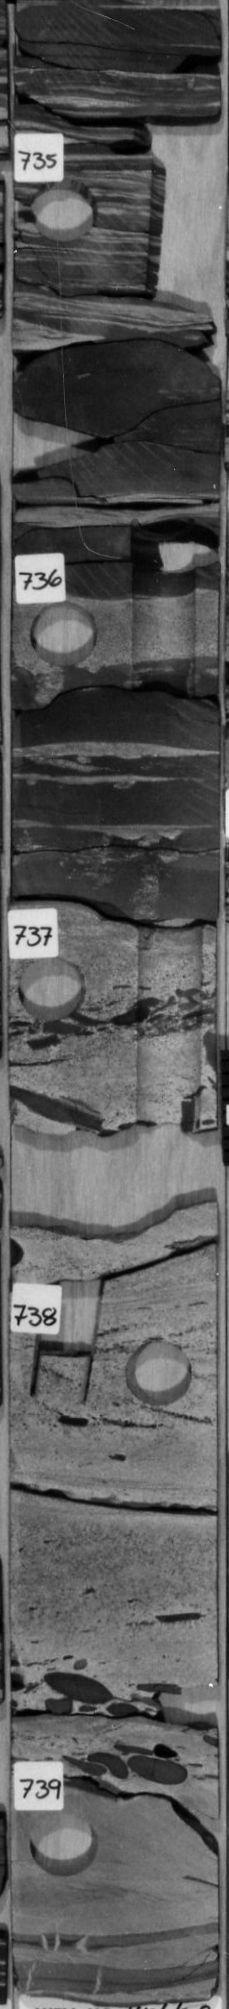hplug: (20, 1809, 105, 1880), (122, 1336, 201, 1411), (13, 955, 92, 1026), (26, 600, 104, 671), (26, 178, 104, 242)
vplug: (130, 914, 212, 1133), (142, 105, 221, 315), (125, 515, 205, 700), (28, 1270, 113, 1407)
